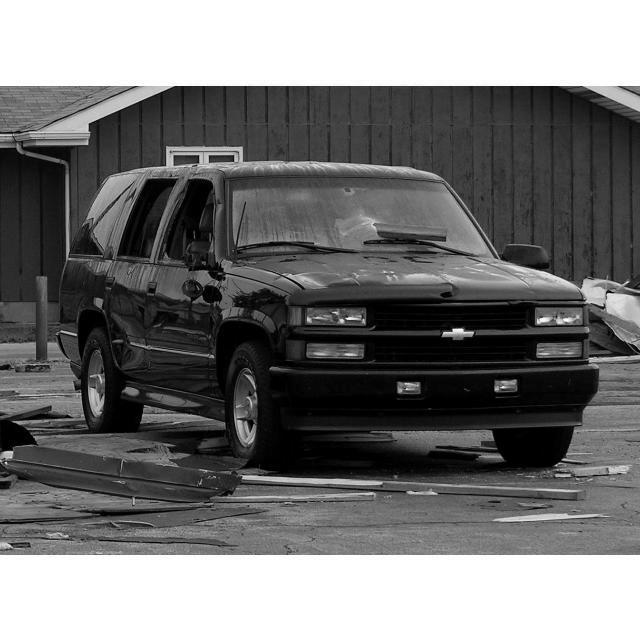Front-windscreen-damage: (214, 168, 465, 253)
